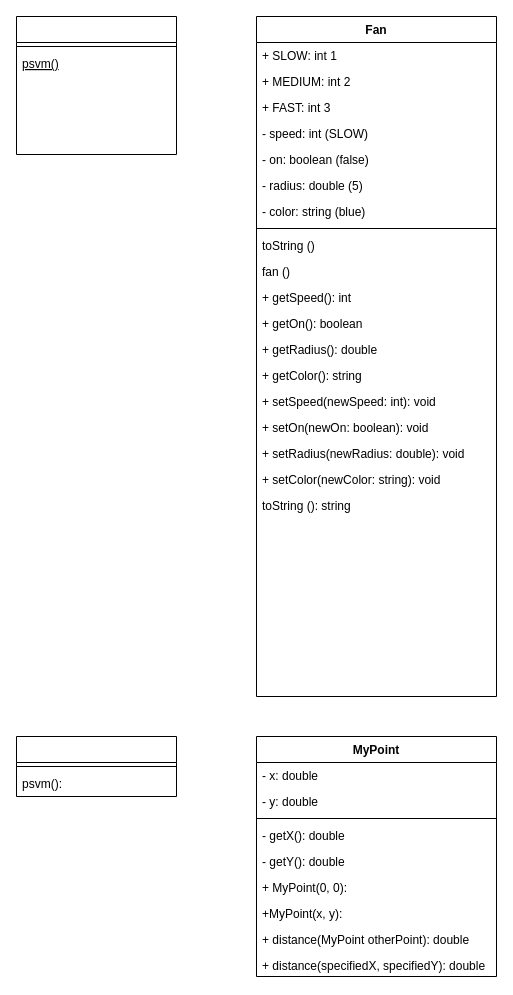
Some shapes in this 513 by 995 pixel diagram are drawn without their labels. The box of each missing label's shape, as (x1, y1, x2, y2) in pixels:
TestFan: (16, 16, 176, 154)
TestMyPoint: (16, 736, 176, 796)
